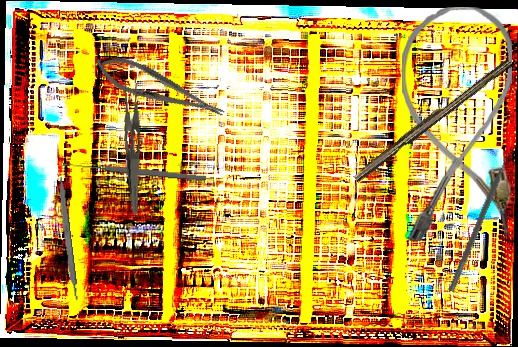Cannula: (402, 7, 512, 241)
Dressing Forceps: (116, 75, 154, 215)
Needle Holder: (88, 47, 231, 130)
Scalpel Handle: (350, 53, 514, 186), (55, 176, 80, 302)
Spatula Surgical: (447, 148, 518, 295)
Surgical Spoon: (62, 159, 207, 183)
